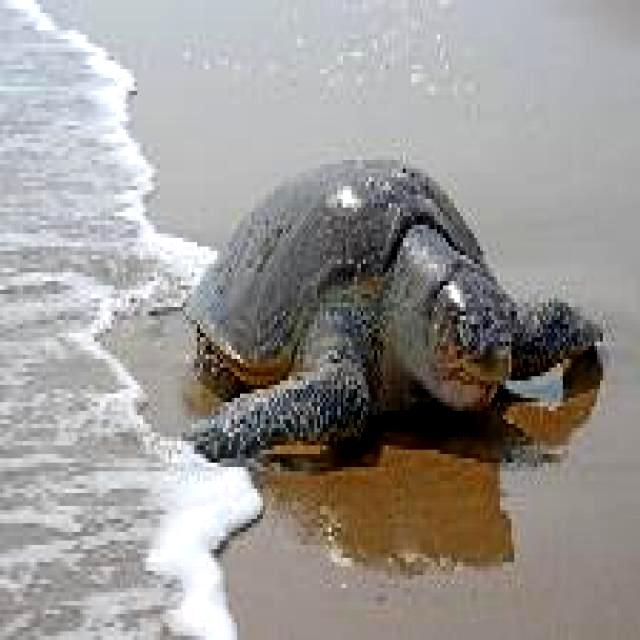Sea turtle: (174, 141, 612, 471)
